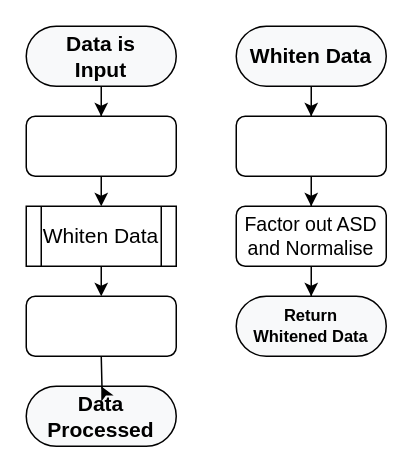
Image size: 413x473. Some labels were removed from this diagram. Each missing label, with the centre of its shape:
"Bandpass Data" goes at [100,325].
"Select Test Section" goes at [310,145].
"Welch PSD is calculated" goes at [100,145].
